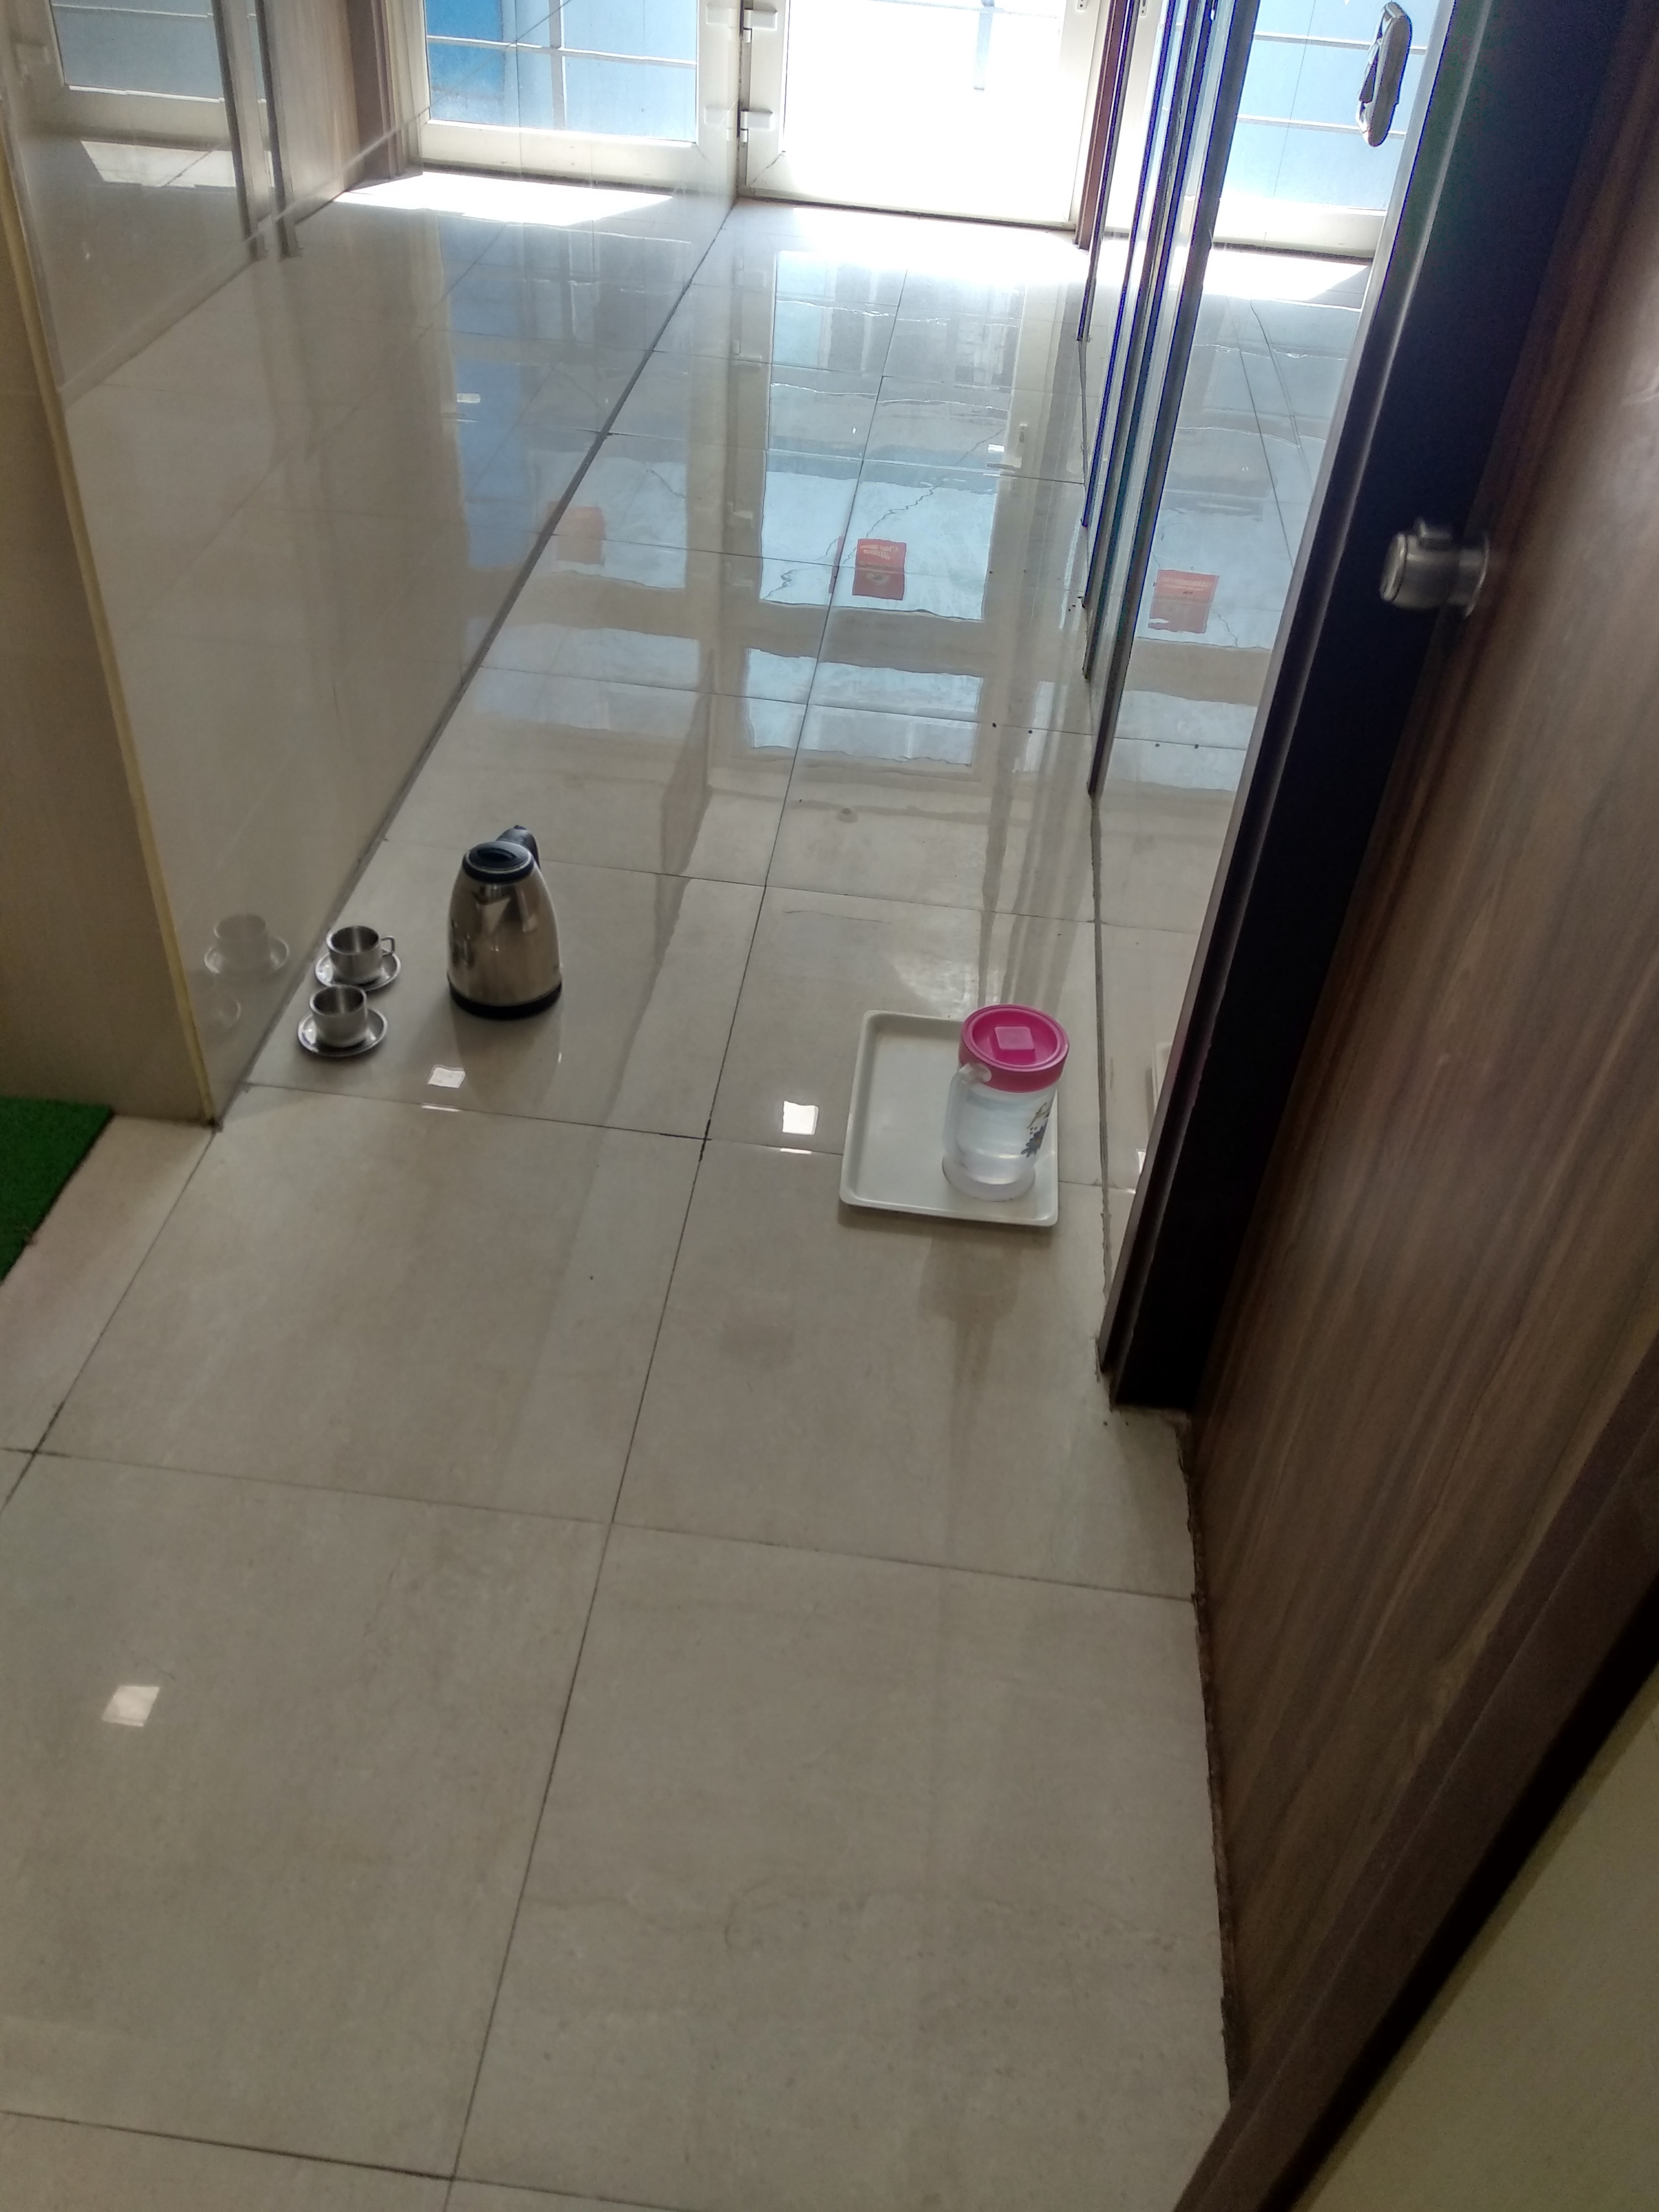CUP: (324, 927, 397, 984), (307, 988, 373, 1049)
JUG: (945, 1003, 1075, 1212), (444, 826, 570, 1022)
